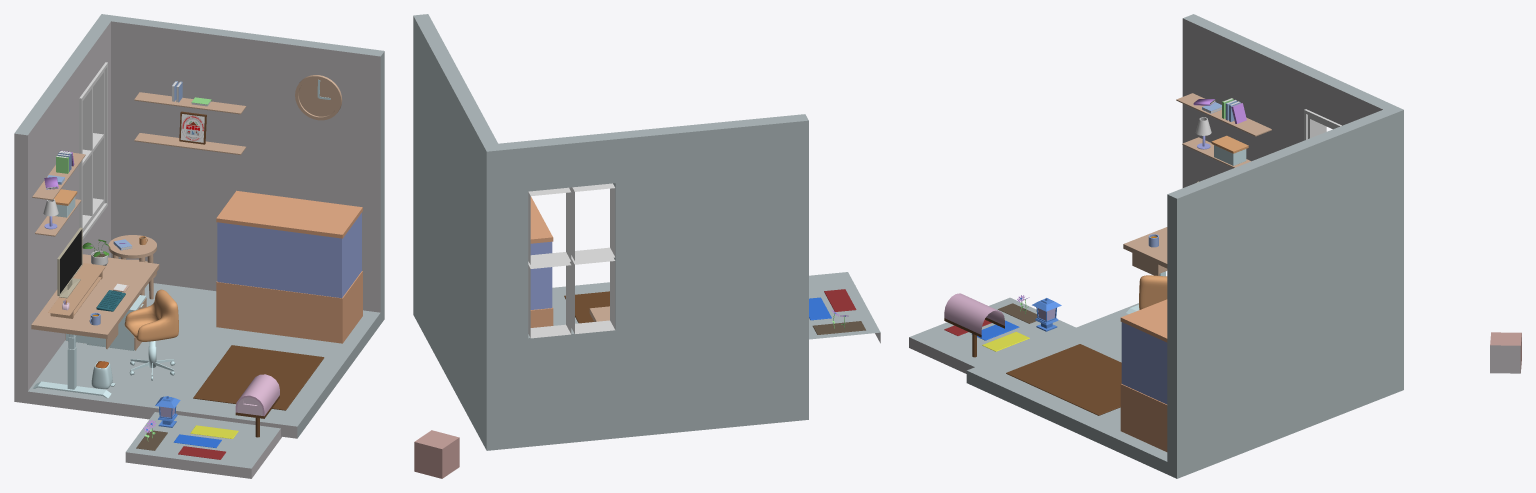
The model's file is Finale Version 16.glb.
3 renders of one model, left to right at view 1: azimuth 30°, elevation 25°; view 2: azimuth 150°, elevation 25°; view 3: azimuth 270°, elevation 25°, orthographic. The views are drawn at different scales.
Parts seen in each view (by area): view 1: Body, Aquarium, Desks, Floor Items, Mini Floor, Shelves, Table Stuff, Chair, Clock, Mailbox, Computer, Lamp (+4 smaller); view 2: Body, Mini Floor, Aquarium, Cube, Floor Items, Dirt, FloorThird; view 3: Body, Aquarium, Floor Items, Mini Floor, Shelves, Mailbox, Desks, Cube, Chair, Lamp.
Boxes of the visible parts, x1,y1,x2,y2 form: Body: (14, 14, 384, 438); Aquarium: (216, 190, 362, 343); Desks: (31, 235, 159, 398); Floor Items: (87, 295, 324, 410); Mini Floor: (125, 412, 281, 478); Shelves: (32, 81, 246, 236); Table Stuff: (48, 236, 147, 325); Chair: (124, 289, 178, 341); Clock: (295, 75, 342, 120); Mailbox: (235, 374, 279, 437); Computer: (57, 227, 82, 298); Lamp: (155, 396, 180, 427); Body: (413, 14, 808, 450); Mini Floor: (809, 272, 880, 343); Aquarium: (530, 196, 553, 327); Cube: (414, 430, 459, 478); Floor Items: (564, 291, 609, 323); Dirt: (812, 321, 865, 334); FloorThird: (824, 289, 856, 311); Body: (966, 14, 1403, 478); Aquarium: (1120, 299, 1167, 451); Floor Items: (1006, 344, 1121, 415); Mini Floor: (909, 297, 1075, 373); Shelves: (1176, 93, 1271, 167); Mailbox: (944, 293, 1004, 357); Desks: (1123, 227, 1167, 313); Cube: (1490, 332, 1521, 373); Chair: (1139, 275, 1167, 309); Lamp: (1032, 298, 1061, 331).
Bounding box in the file's own units: 27.58 × 19.65 × 38.64.
Materials: 43 (1 with a texture image).
